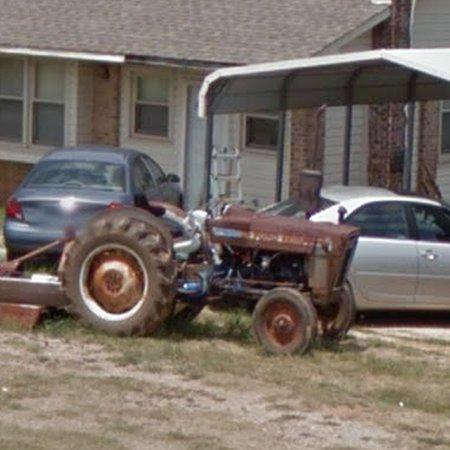tractors: (0, 196, 360, 354)
